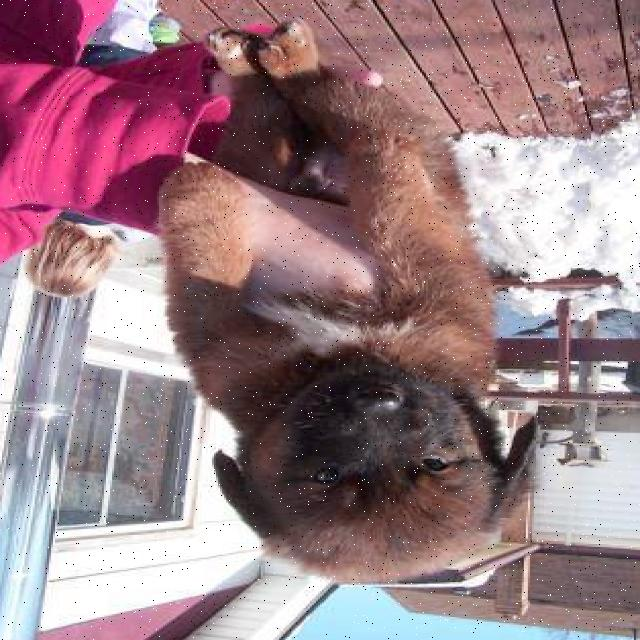Dog: (204, 365, 547, 581)
